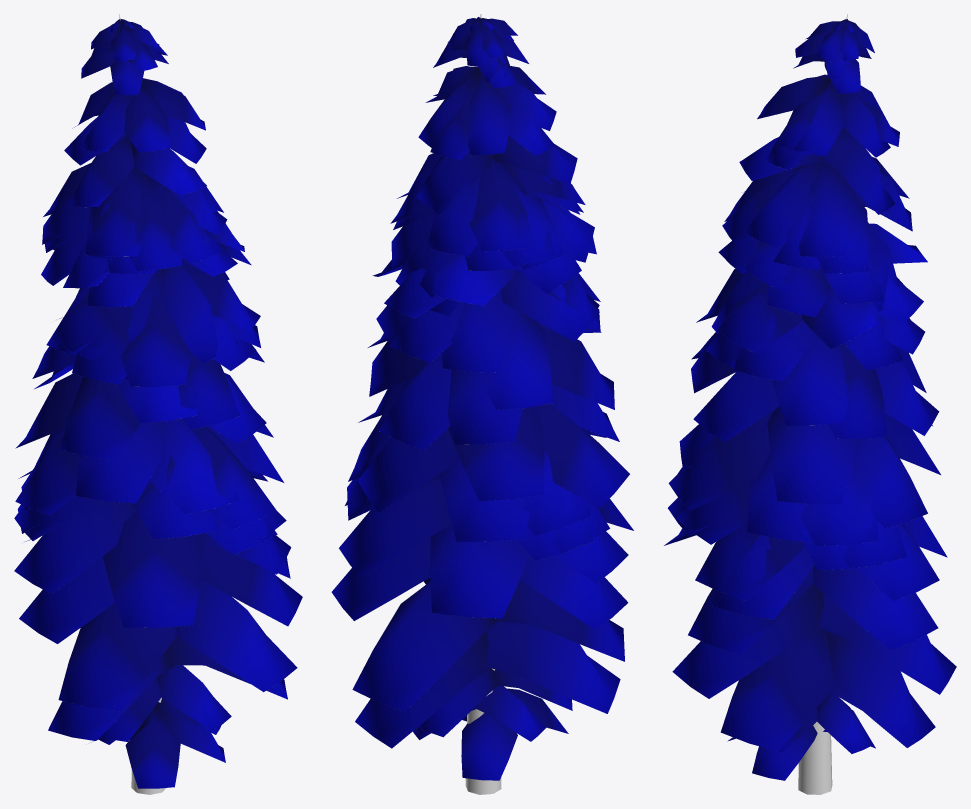
File: treeLandscape.fbx
3 views of the same model, side by side, from view 1: azimuth 30°, elevation 25°; view 2: azimuth 150°, elevation 25°; view 3: azimuth 270°, elevation 25° (orthographic). The views are drawn at different scales.
Visible parts, largest first — view 1: tree; view 2: tree; view 3: tree.
Part boxes in pixels (x1,y1,x2,y2): tree: [14, 14, 302, 794]; tree: [331, 14, 633, 794]; tree: [664, 14, 956, 794].
Size of the model in its own units: 417 by 1251 by 434.
